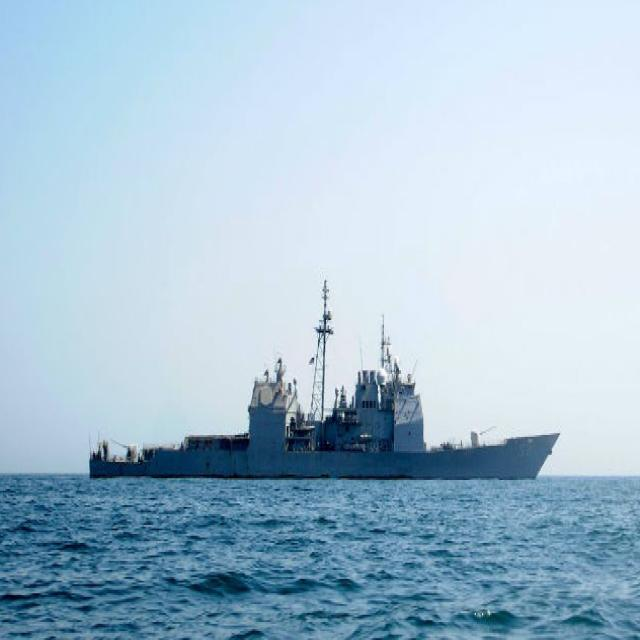navalvessels: (84, 276, 565, 481)
